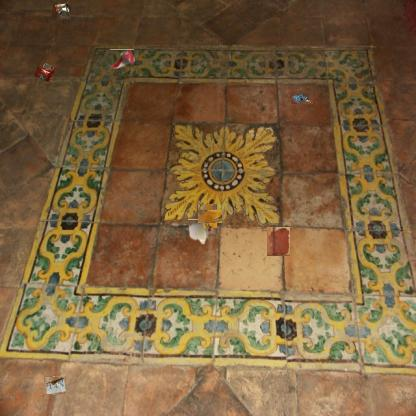dirty: (32, 61, 58, 85), (188, 219, 210, 244), (110, 49, 134, 68), (44, 376, 66, 394), (51, 2, 71, 21), (291, 92, 313, 104)
liquid: (266, 226, 290, 256), (200, 206, 220, 226)
